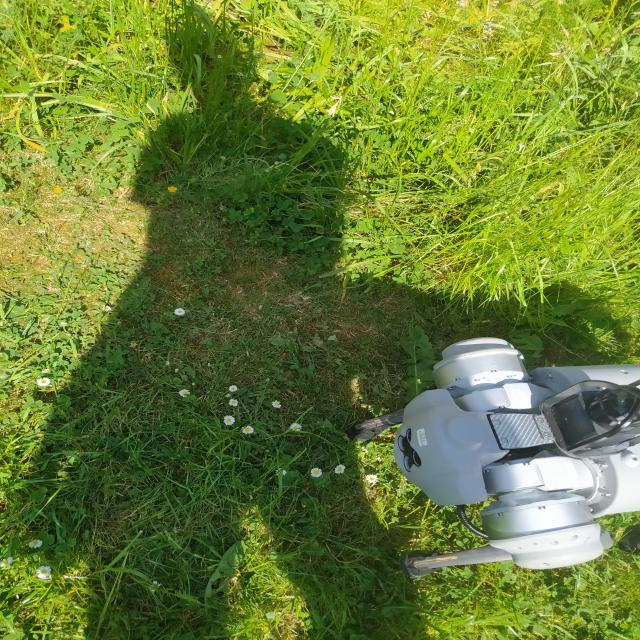unitree-go1-robot: (384, 310, 640, 586)
